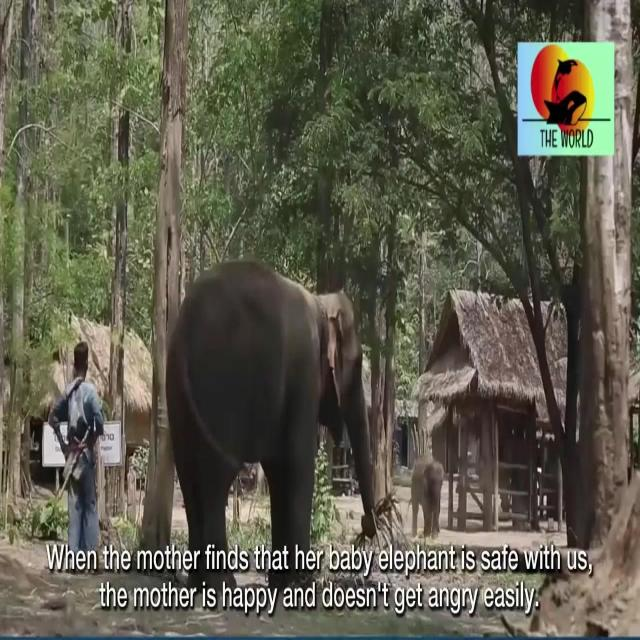Elephant: (173, 239, 377, 540), (412, 457, 445, 530)
